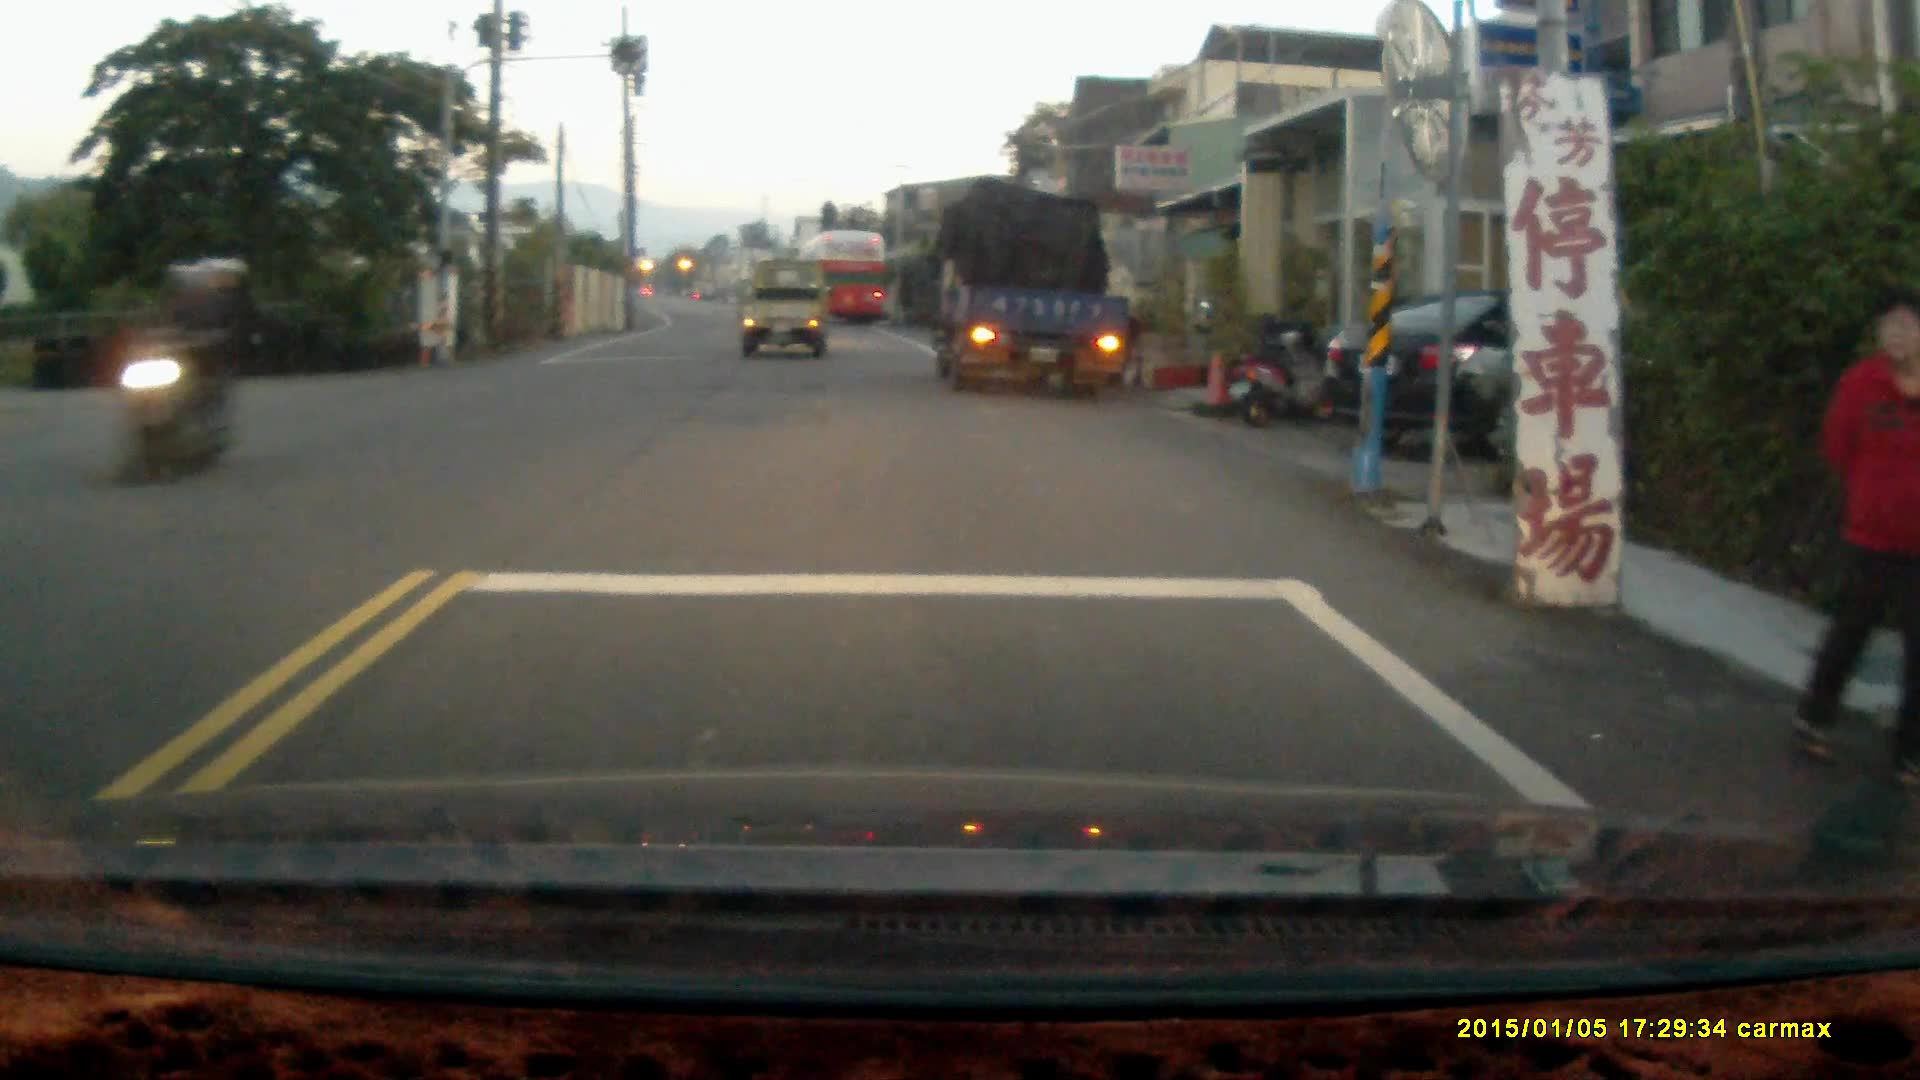pedestrian: (1780, 285, 1920, 791)
rider: (114, 252, 255, 485)
vehicle: (1315, 287, 1717, 468), (934, 185, 1134, 388), (797, 229, 894, 332), (738, 259, 829, 355)
